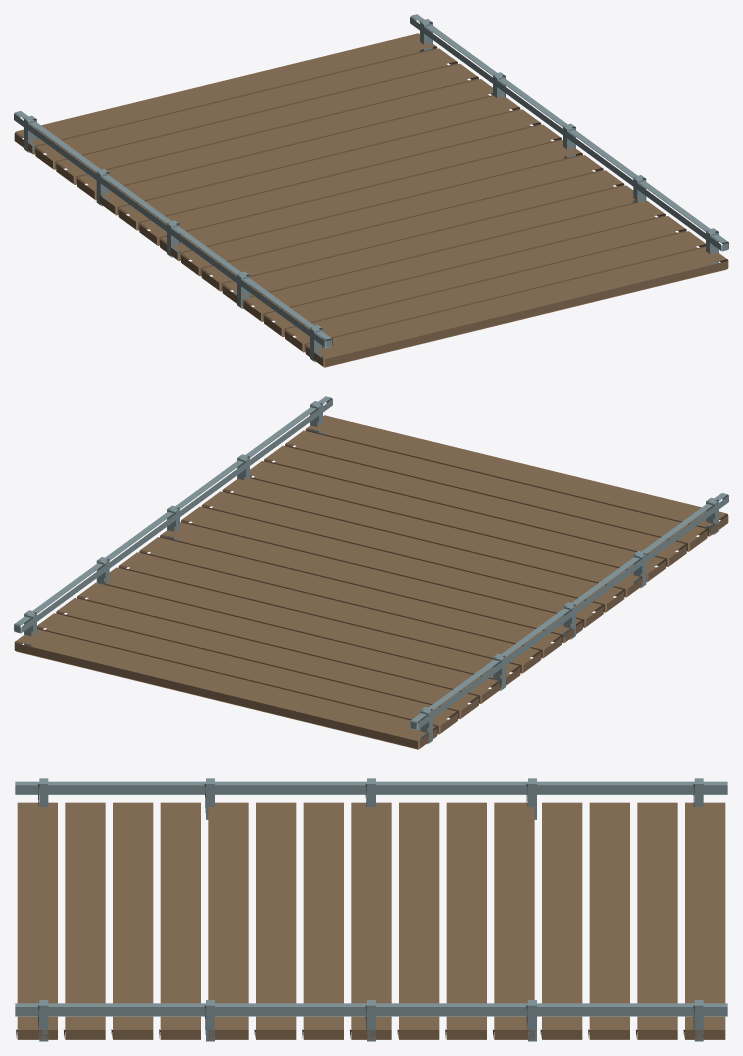
Rendered from bridge.glb.
The picture shows the model from 3 angles, top to bottom: view 1: azimuth 30°, elevation 25°; view 2: azimuth 150°, elevation 25°; view 3: azimuth 270°, elevation 25°; orthographic projection. The views are drawn at different scales.
Visible parts, largest first — view 1: Cube.030, Cube.043, Cube.039, Cube.036, Cube.032, Cube.033, Cube.042, Cube.035, Cube.038, Cube.040, Cube.031, Cube.041 (+5 smaller); view 2: Cube.044, Cube.031, Cube.035, Cube.038, Cube.041, Cube.042, Cube.032, Cube.039, Cube.036, Cube.034, Cube.043, Cube.033 (+5 smaller); view 3: Cube.051, Cube.045, Cube.032, Cube.035, Cube.038, Cube.041, Cube.031, Cube.043, Cube.033, Cube.036, Cube.039, Cube.042 (+5 smaller).
Boxes of the visible parts, bbox=[...] form: Cube.030: bbox=[305, 247, 728, 367]; Cube.043: bbox=[35, 48, 457, 169]; Cube.039: bbox=[118, 109, 541, 230]; Cube.036: bbox=[181, 155, 603, 276]; Cube.032: bbox=[264, 216, 686, 337]; Cube.033: bbox=[243, 201, 665, 321]; Cube.042: bbox=[56, 63, 478, 184]; Cube.035: bbox=[201, 170, 624, 291]; Cube.038: bbox=[139, 124, 561, 245]; Cube.040: bbox=[98, 95, 520, 215]; Cube.031: bbox=[285, 231, 705, 352]; Cube.041: bbox=[77, 79, 492, 200]; Cube.044: bbox=[14, 629, 437, 749]; Cube.031: bbox=[285, 430, 707, 551]; Cube.035: bbox=[201, 491, 624, 612]; Cube.038: bbox=[139, 537, 561, 658]; Cube.041: bbox=[77, 583, 499, 703]; Cube.042: bbox=[56, 598, 478, 719]; Cube.032: bbox=[264, 445, 686, 566]; Cube.039: bbox=[118, 552, 541, 673]; Cube.036: bbox=[181, 506, 603, 627]; Cube.034: bbox=[222, 477, 642, 597]; Cube.043: bbox=[37, 613, 457, 734]; Cube.033: bbox=[250, 461, 665, 582]; Cube.051: bbox=[15, 1003, 727, 1016]; Cube.045: bbox=[15, 781, 727, 794]; Cube.032: bbox=[111, 802, 153, 1039]; Cube.035: bbox=[254, 802, 296, 1039]; Cube.038: bbox=[397, 802, 439, 1039]; Cube.041: bbox=[540, 802, 582, 1039]; Cube.031: bbox=[64, 802, 105, 1039]; Cube.043: bbox=[636, 802, 677, 1039]; Cube.033: bbox=[159, 802, 200, 1039]; Cube.036: bbox=[302, 802, 343, 1039]; Cube.039: bbox=[445, 802, 486, 1039]; Cube.042: bbox=[588, 802, 629, 1039].
Bounding box in the file's own units: 9 × 0.7 × 12.
